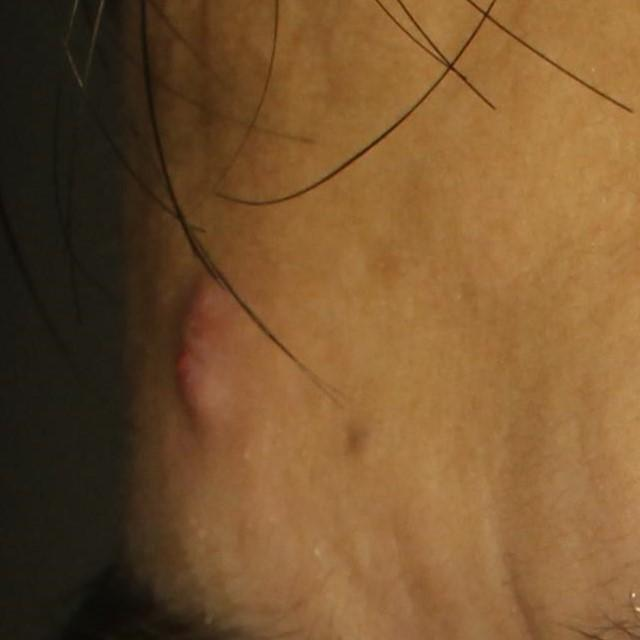nodule: (146, 256, 267, 450)
